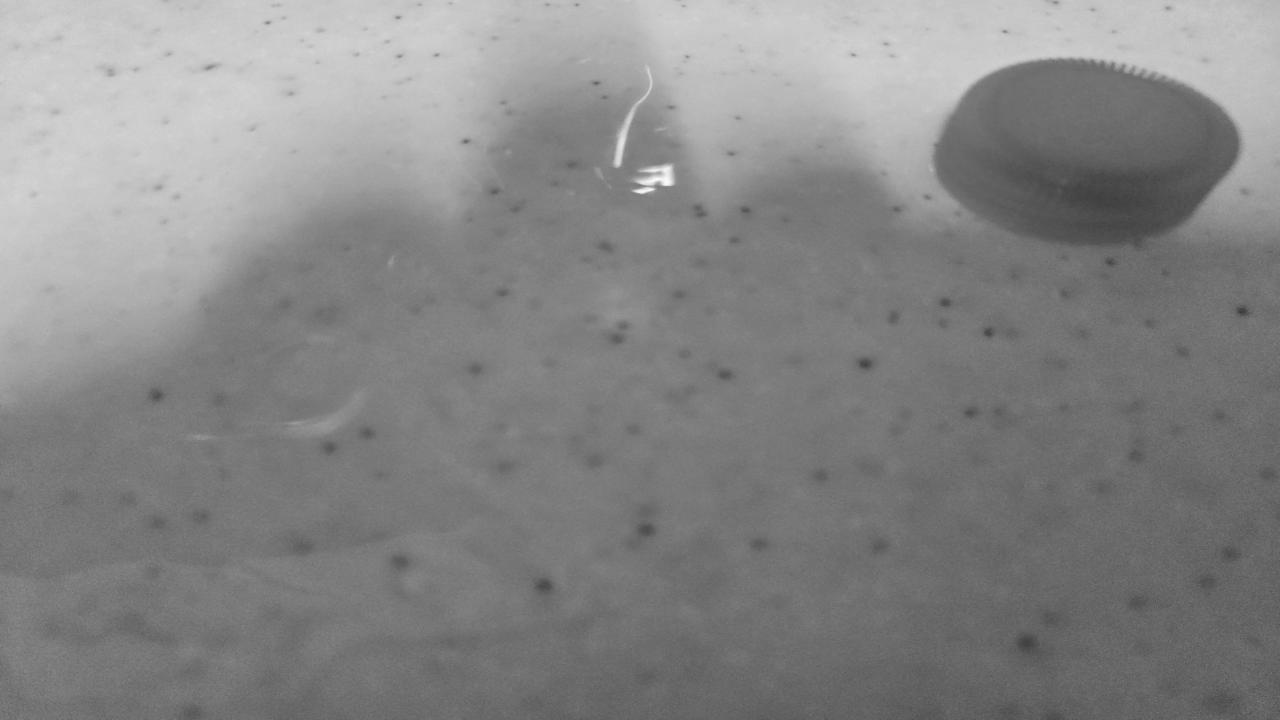bottle_cap: (936, 62, 1235, 243)
